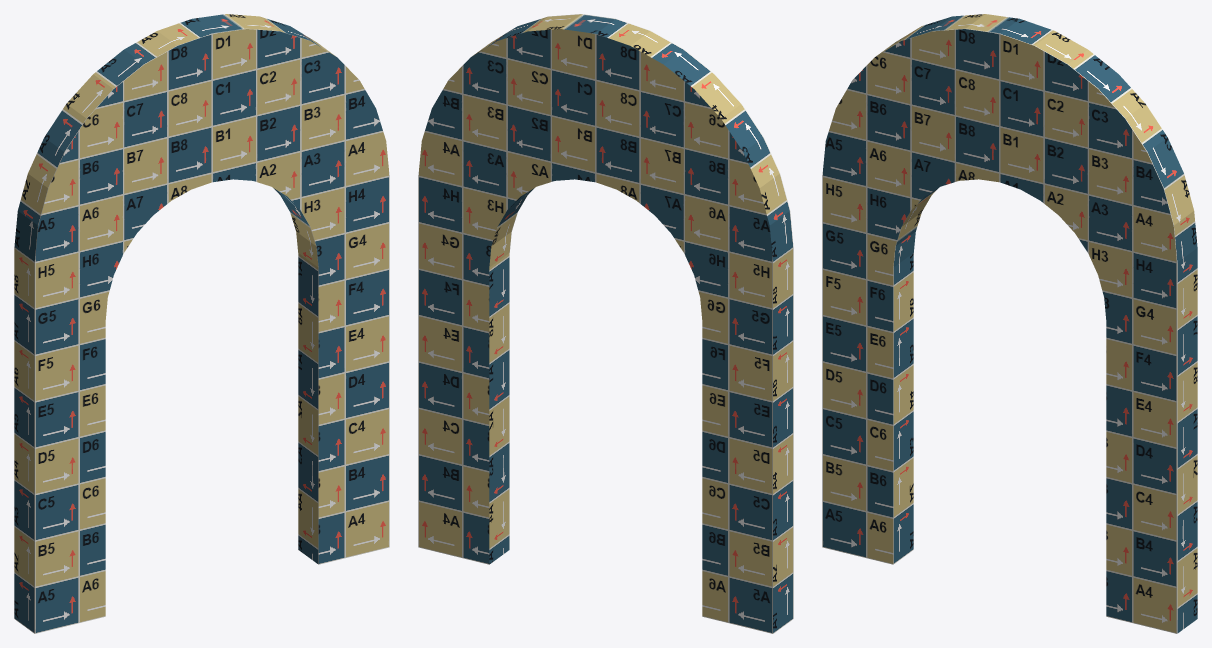
File: DOORWAY_Arched.fbx
3 views of the same model, side by side, from view 1: azimuth 30°, elevation 25°; view 2: azimuth 150°, elevation 25°; view 3: azimuth 330°, elevation 25° (orthographic).
Visible parts, largest first — view 1: DOORWAY_Arched; view 2: DOORWAY_Arched; view 3: DOORWAY_Arched.
Boxes of the visible parts, <box> form: DOORWAY_Arched: <box>14,14,389,633</box>; DOORWAY_Arched: <box>418,14,793,633</box>; DOORWAY_Arched: <box>822,14,1197,633</box>.
Bounding box in the file's own units: 200 × 300 × 20.
1 material, 1 textured.
